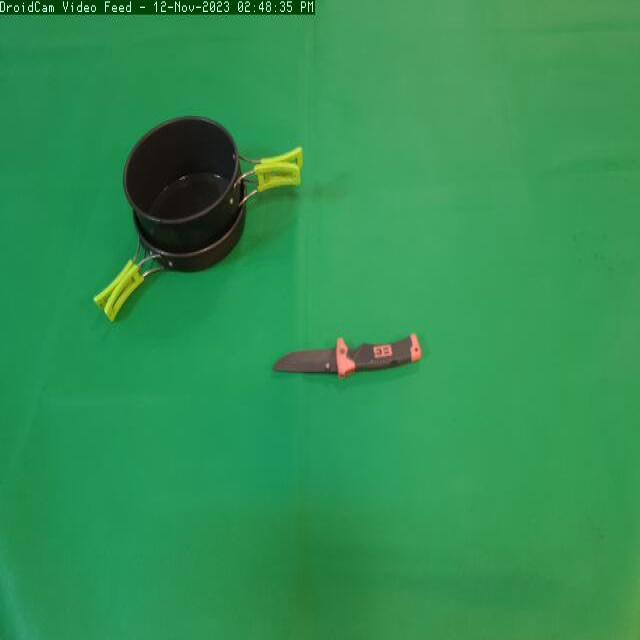knife: (266, 325, 428, 400)
pan: (94, 171, 250, 321)
pot: (118, 112, 304, 253)
